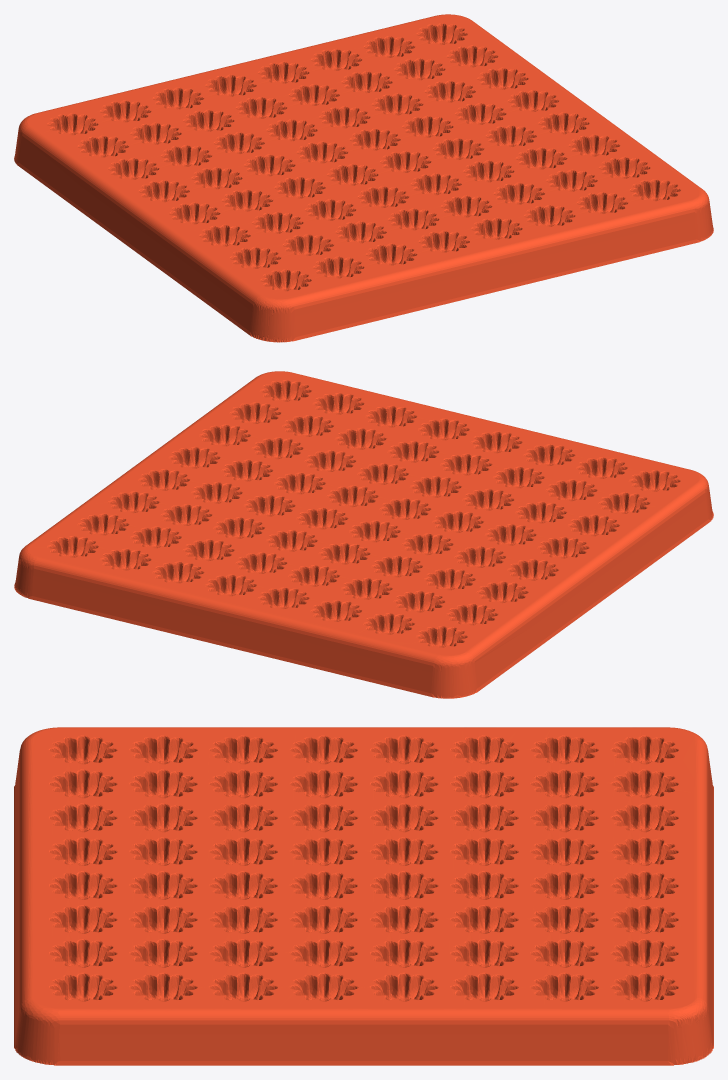
File: mold.glb
3 renders of one model, top to bottom at view 1: azimuth 30°, elevation 25°; view 2: azimuth 150°, elevation 25°; view 3: azimuth 270°, elevation 25°, orthographic. The views are drawn at different scales.
Visible parts, largest first — view 1: geometry_0; view 2: geometry_0; view 3: geometry_0.
Boxes of the visible parts, box(x1,y1,x2,y2) form: geometry_0: box(14, 14, 713, 342); geometry_0: box(14, 371, 713, 698); geometry_0: box(14, 727, 713, 1065).
Size of the model in its own units: 0.1355 by 0.0105 by 0.1355.
